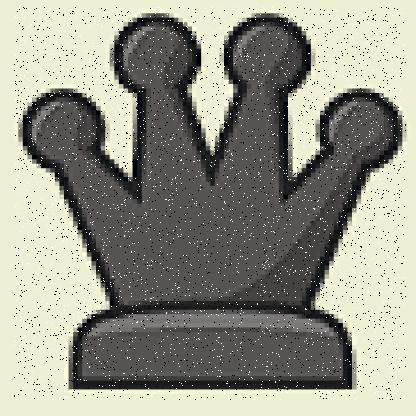Black Queen: (14, 7, 407, 401)
